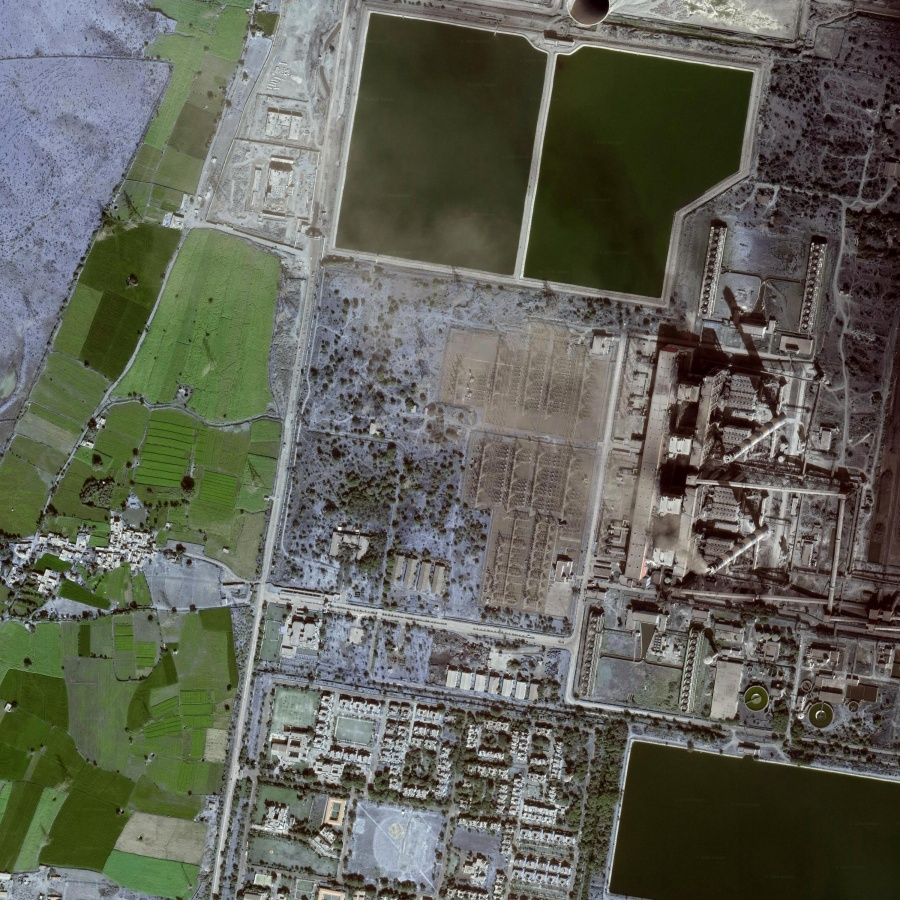PowerPlant: (322, 8, 760, 316)
